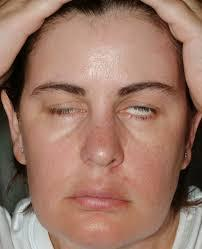strokeEyeSevere: (23, 74, 170, 128)
